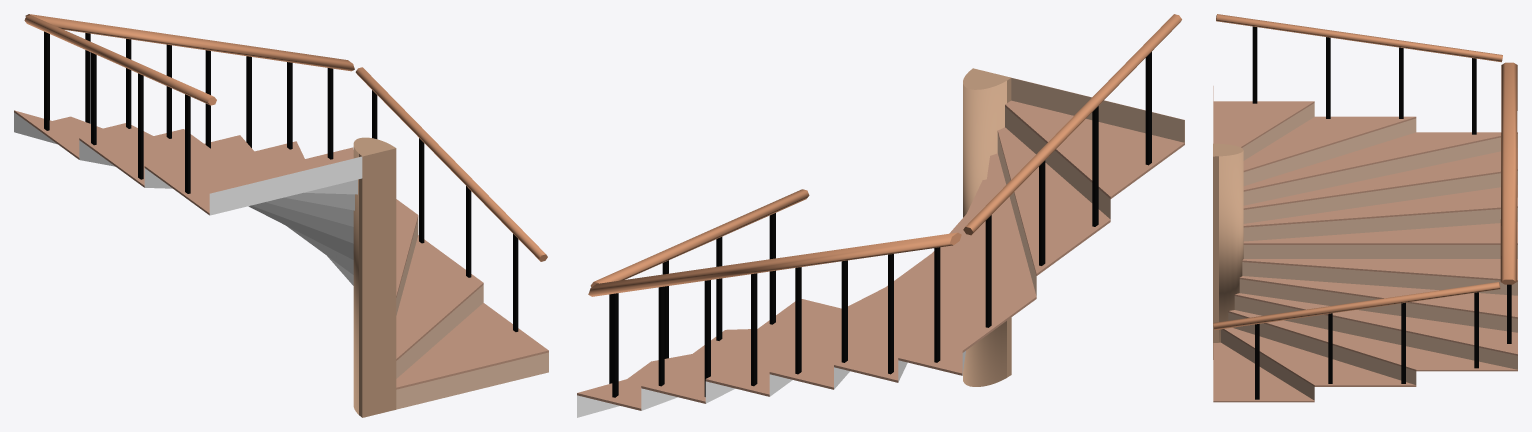
Rendered from sh-contrib-stairs-180-square.glb.
The picture shows the model from 3 angles, left to right: view 1: azimuth 30°, elevation 25°; view 2: azimuth 150°, elevation 25°; view 3: azimuth 270°, elevation 25°; orthographic projection. The views are drawn at different scales.
Parts seen in each view (by area): view 1: 97_97, Cylinder, 1_1.003_1_1.006, Cube.001_Cube.002; view 2: 97_97, Cube.001_Cube.002, 1_1.003_1_1.006, Cylinder; view 3: 97_97, 1_1.003_1_1.006, Cylinder, Cube.001_Cube.002.
Boxes of the visible parts, <box> form: 97_97: <box>14,110,548,409</box>; Cylinder: <box>353,137,396,417</box>; 1_1.003_1_1.006: <box>24,14,547,261</box>; Cube.001_Cube.002: <box>44,31,518,331</box>; 97_97: <box>577,77,1184,417</box>; Cube.001_Cube.002: <box>609,52,1151,397</box>; 1_1.003_1_1.006: <box>588,14,1181,296</box>; Cylinder: <box>963,68,1011,386</box>; 97_97: <box>1213,86,1517,402</box>; 1_1.003_1_1.006: <box>1213,14,1517,329</box>; Cylinder: <box>1213,143,1243,359</box>; Cube.001_Cube.002: <box>1252,26,1511,399</box>.
Size of the model in its own units: 1 by 1 by 1.
